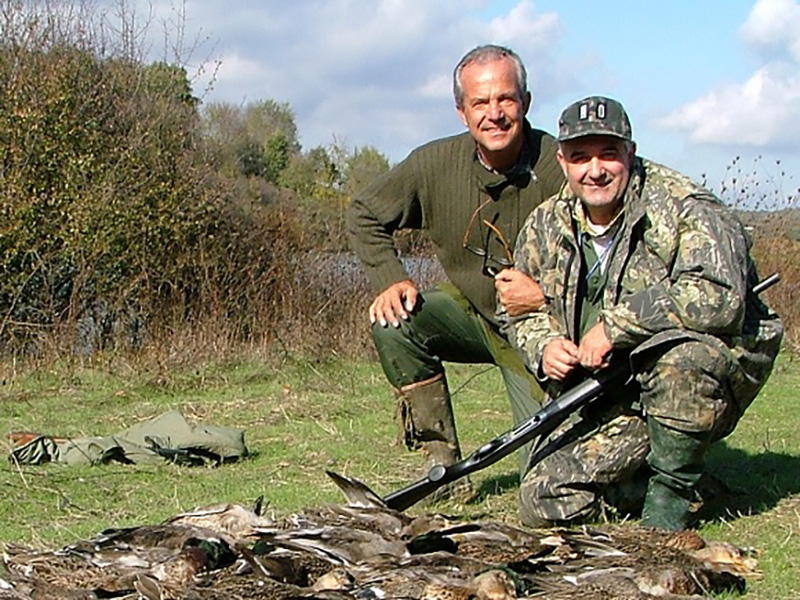cacciatore: (492, 99, 797, 528), (350, 39, 567, 521)
fucile: (373, 274, 783, 526)
